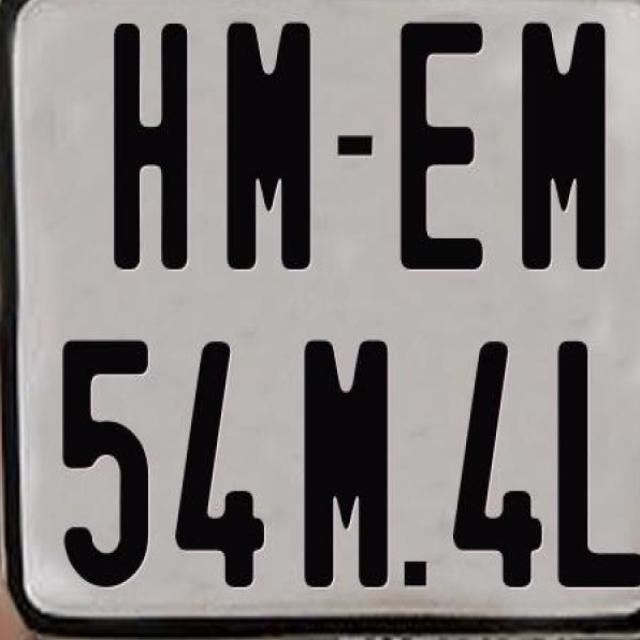license-plate: (10, 0, 640, 632)
